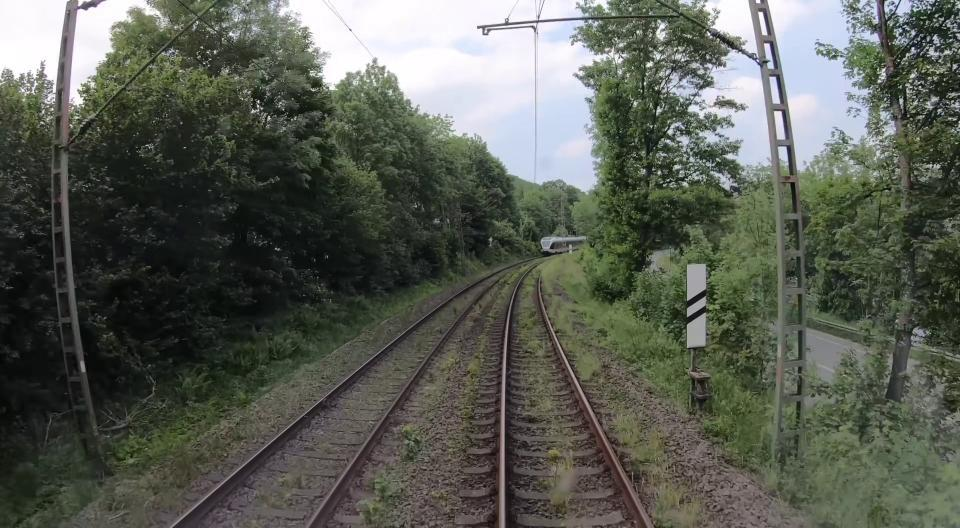Plant: (146, 410, 260, 509), (611, 412, 702, 528), (541, 254, 602, 382), (489, 258, 545, 326), (519, 263, 546, 355), (360, 477, 404, 528), (548, 448, 578, 506), (527, 360, 554, 413), (467, 285, 500, 327), (399, 426, 424, 462), (468, 338, 486, 379)
